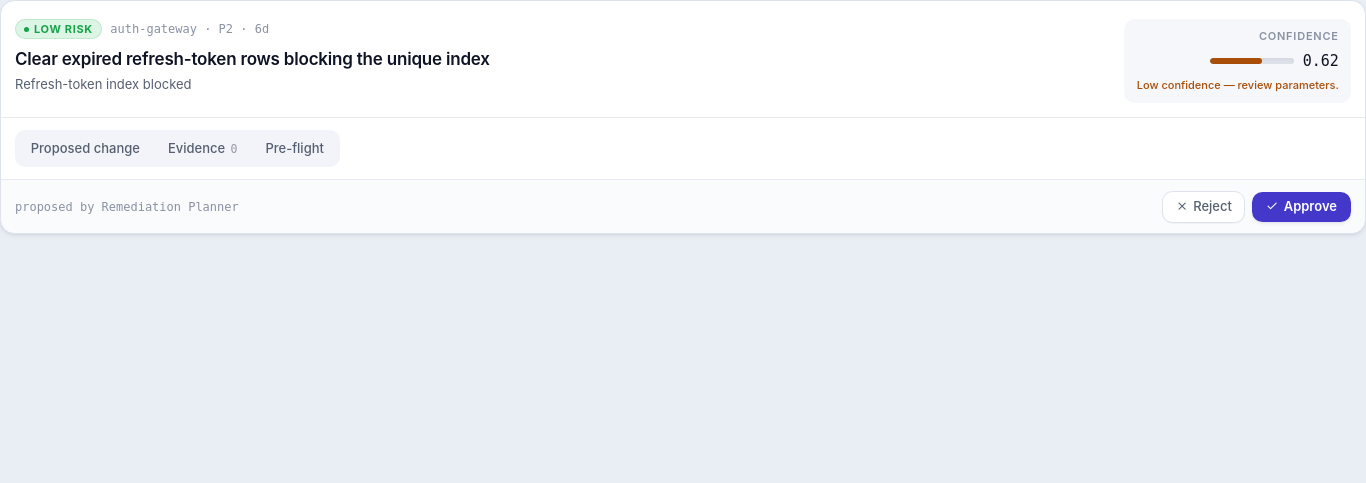
Test case: ApprovalCard optimistic rollback (FR-045,X-1) › rolls back to the reject form and surfaces the error when reject fails
The image size is (1366, 483).
Click the button "Reject" at (1204, 206), box x1=1162 y1=190 x2=1245 y2=222
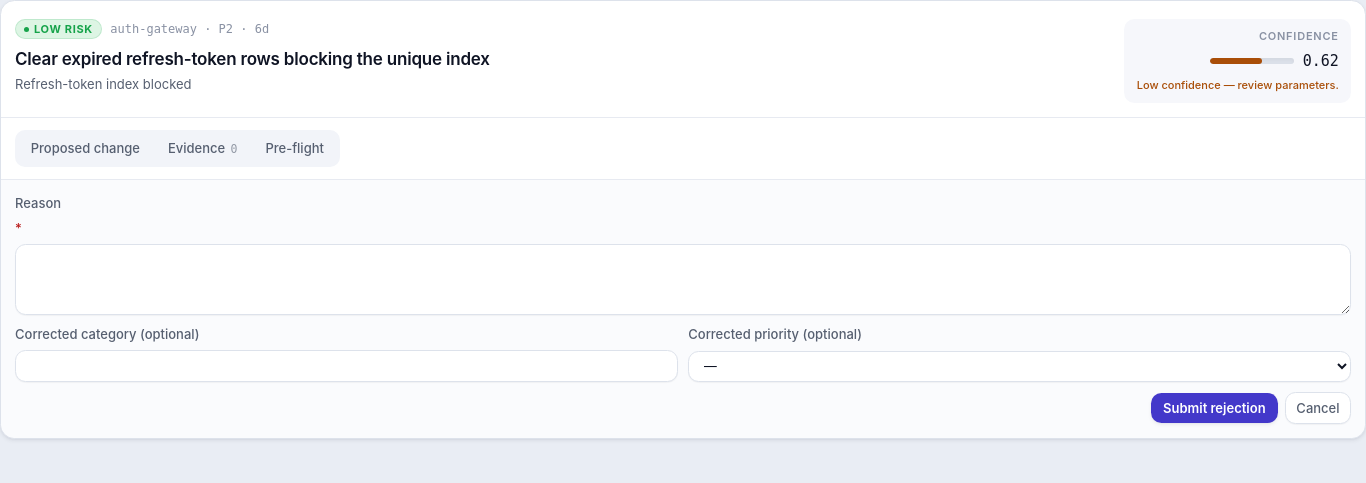
Type "Not needed" into the text box labelled "Reason *" at (683, 279), box x1=15 y1=244 x2=1351 y2=314
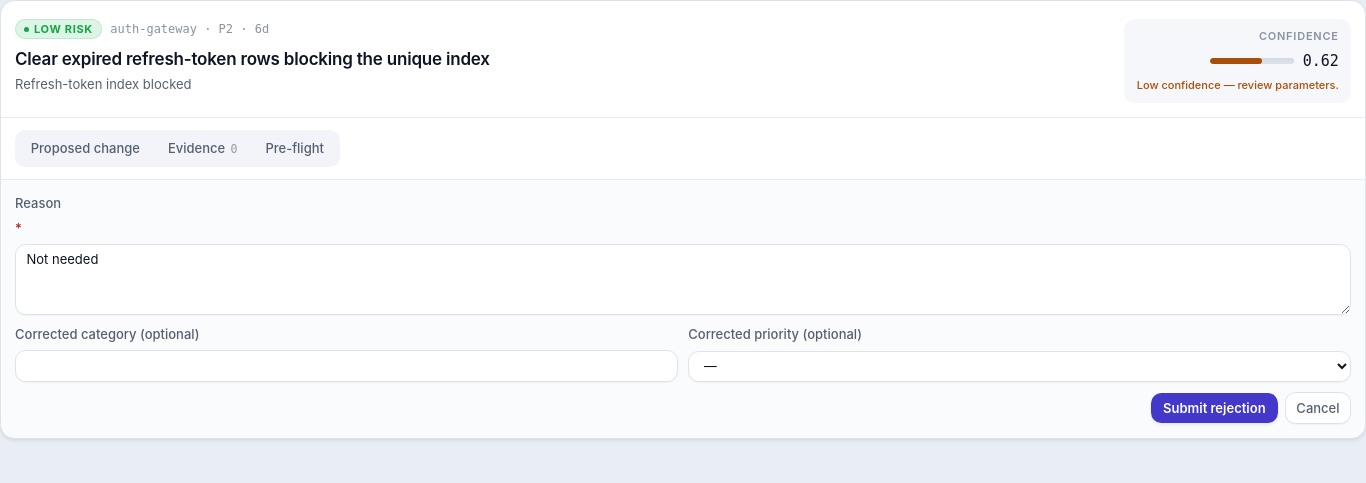
Click the button "Submit rejection" at (1214, 408), box x1=1151 y1=393 x2=1278 y2=423
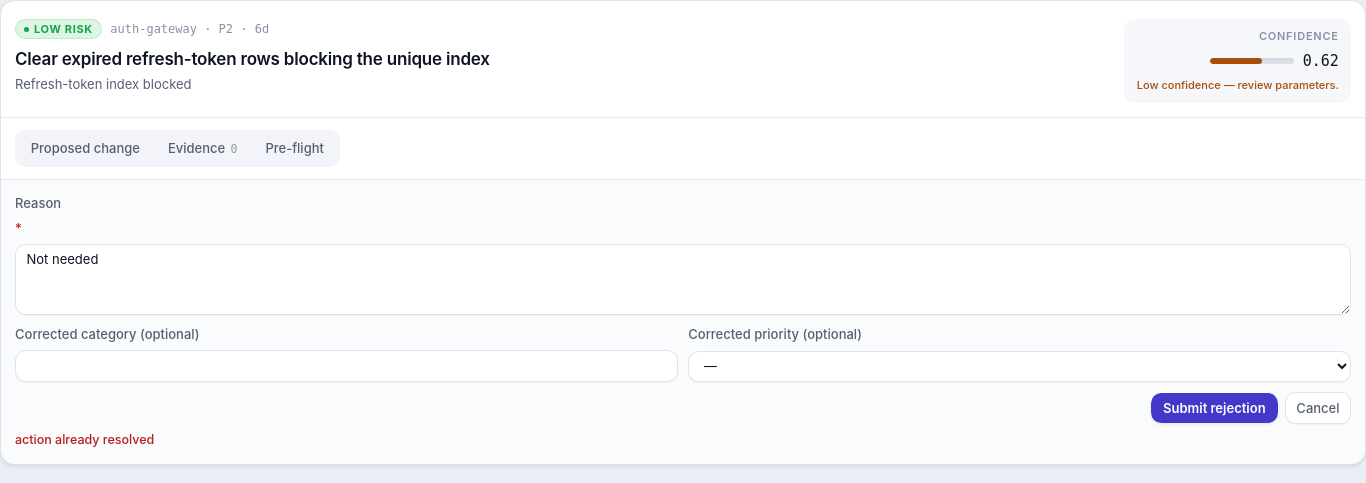
Now the button "Submit rejection" is shown, box x1=1151 y1=393 x2=1278 y2=423
Now the message shows "already resolved", box x1=15 y1=432 x2=154 y2=447
